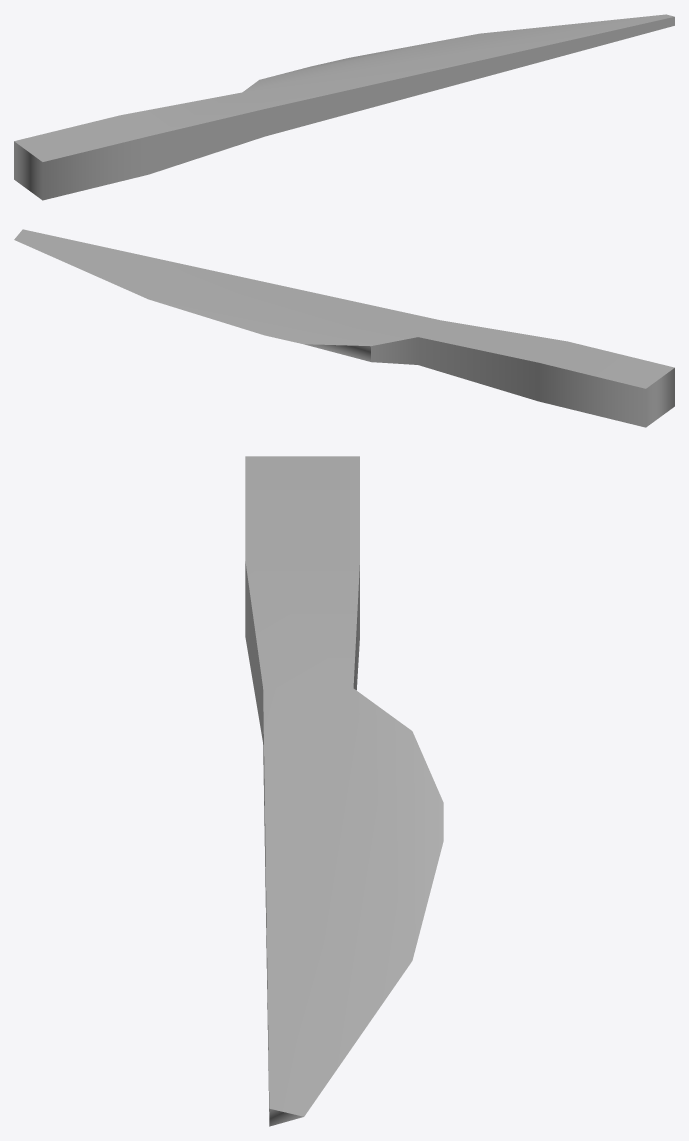
File: Dest_Hall_Table_Knife.FBX
3 renders of one model, top to bottom at view 1: azimuth 30°, elevation 25°; view 2: azimuth 150°, elevation 25°; view 3: azimuth 270°, elevation 25°, orthographic. The views are drawn at different scales.
Parts seen in each view (by area): view 1: Box008; view 2: Box008; view 3: Box008.
Part boxes in pixels (x1,y1,x2,y2): Box008: [14, 14, 674, 200]; Box008: [14, 229, 674, 427]; Box008: [245, 456, 443, 1126].
Size of the model in its own units: 8.81 by 0.5055 by 1.19.
